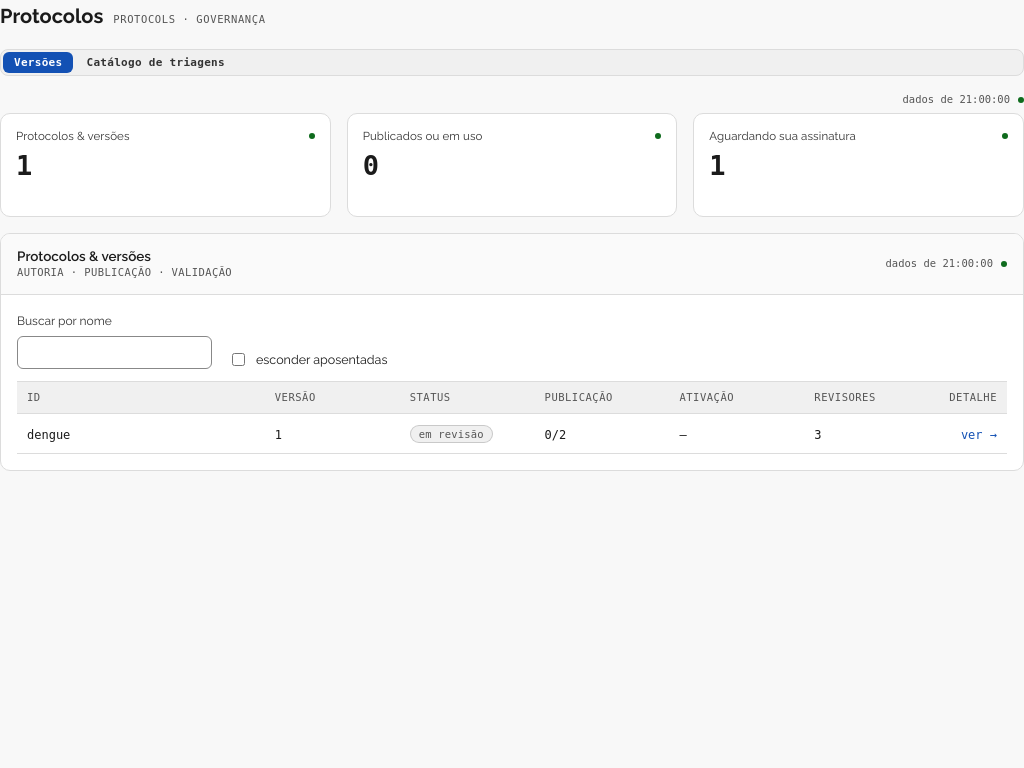
Test: Protocols › o detalhe mostra quem assinou, quem editou e o mantenedor por extenso
The image size is (1024, 768).
Click the text "dengue" at (49, 435), box left=27, top=428, right=70, bottom=442
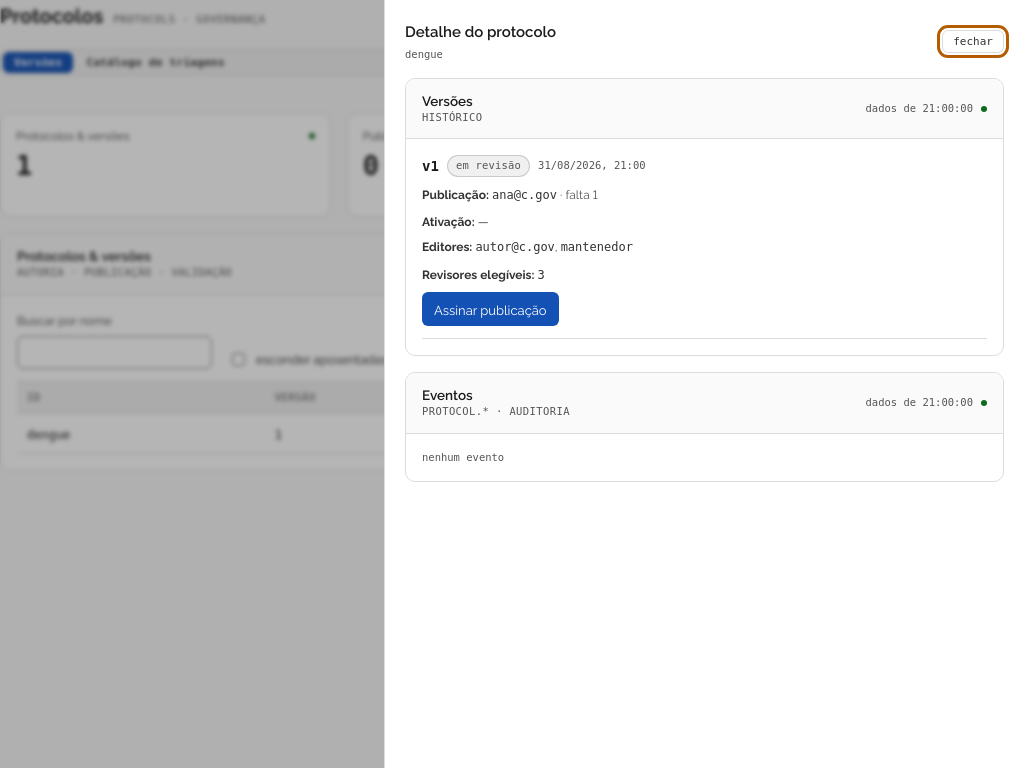
Result: the text "ana@c.gov" is shown at left=492, top=188, right=557, bottom=202
Result: the text "autor@c.gov" is shown at left=475, top=240, right=555, bottom=254
Result: the text "mantenedor" is shown at left=561, top=240, right=633, bottom=254
